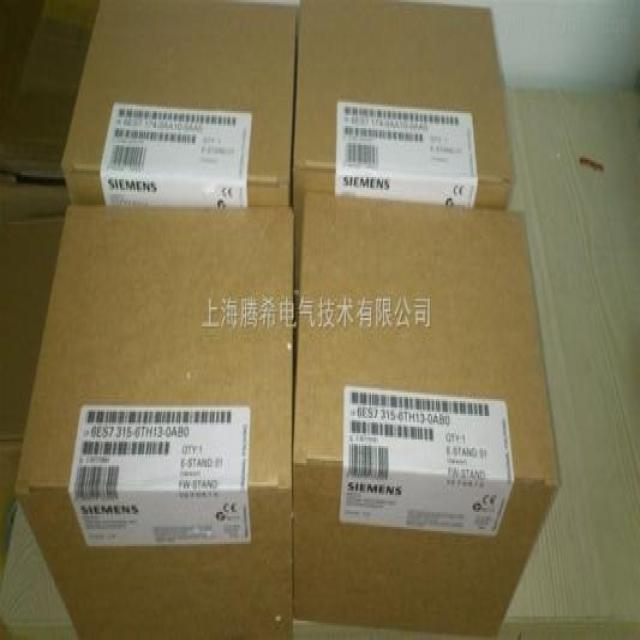box: (15, 204, 293, 638), (293, 196, 560, 638), (291, 1, 515, 297), (62, 1, 296, 206)
